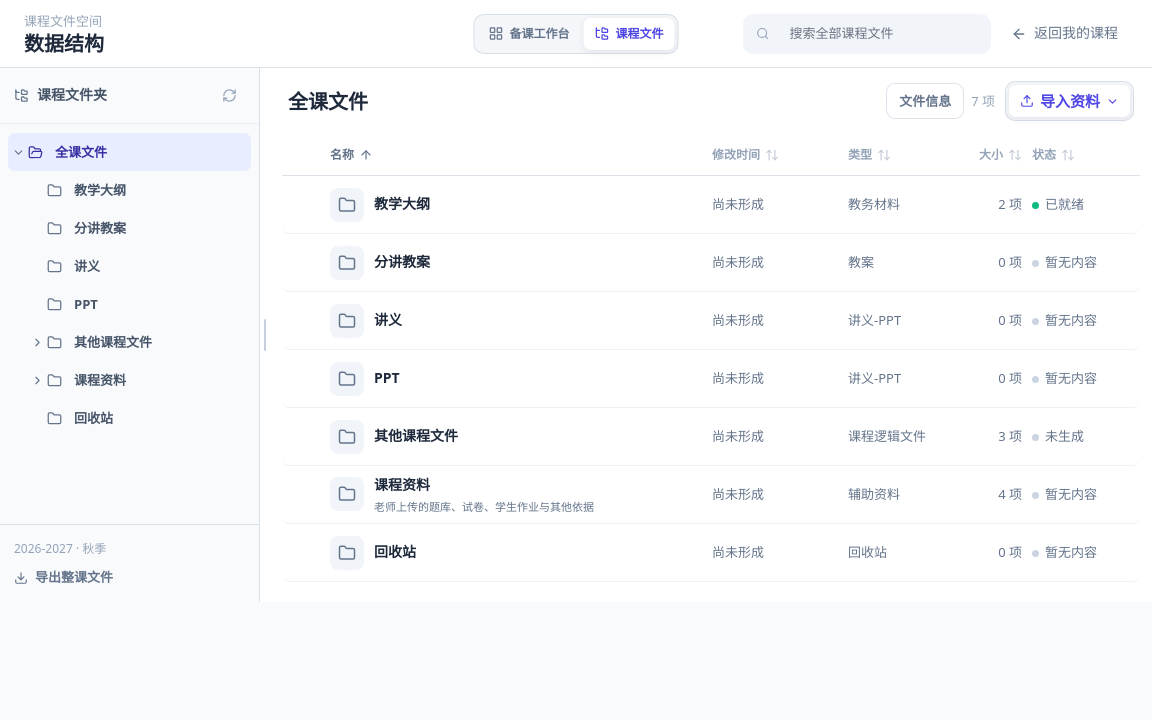
Test: TeacherCourseSpaceView › 可使用资产保留四态主状态，同时显示最近失败辅助状态
This screenshot has width=1152, height=720.
What coordinates should you click on to do the following:
click the row with class "file-row" showing "教学大纲 尚未形成 教务材料 2 项 已就绪"
I would click on:
 (711, 205)
Its box is [282, 176, 1140, 234].
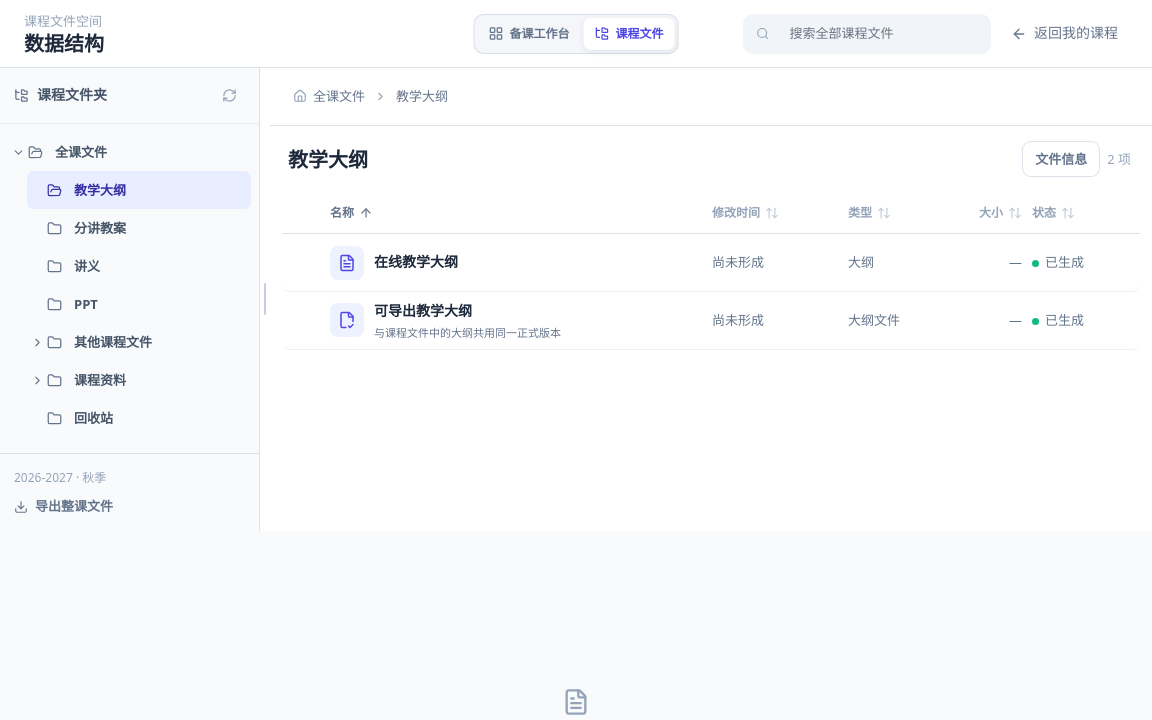
Check: the row with class "file-row" shows "已生成", box [1045, 253, 1084, 271]
